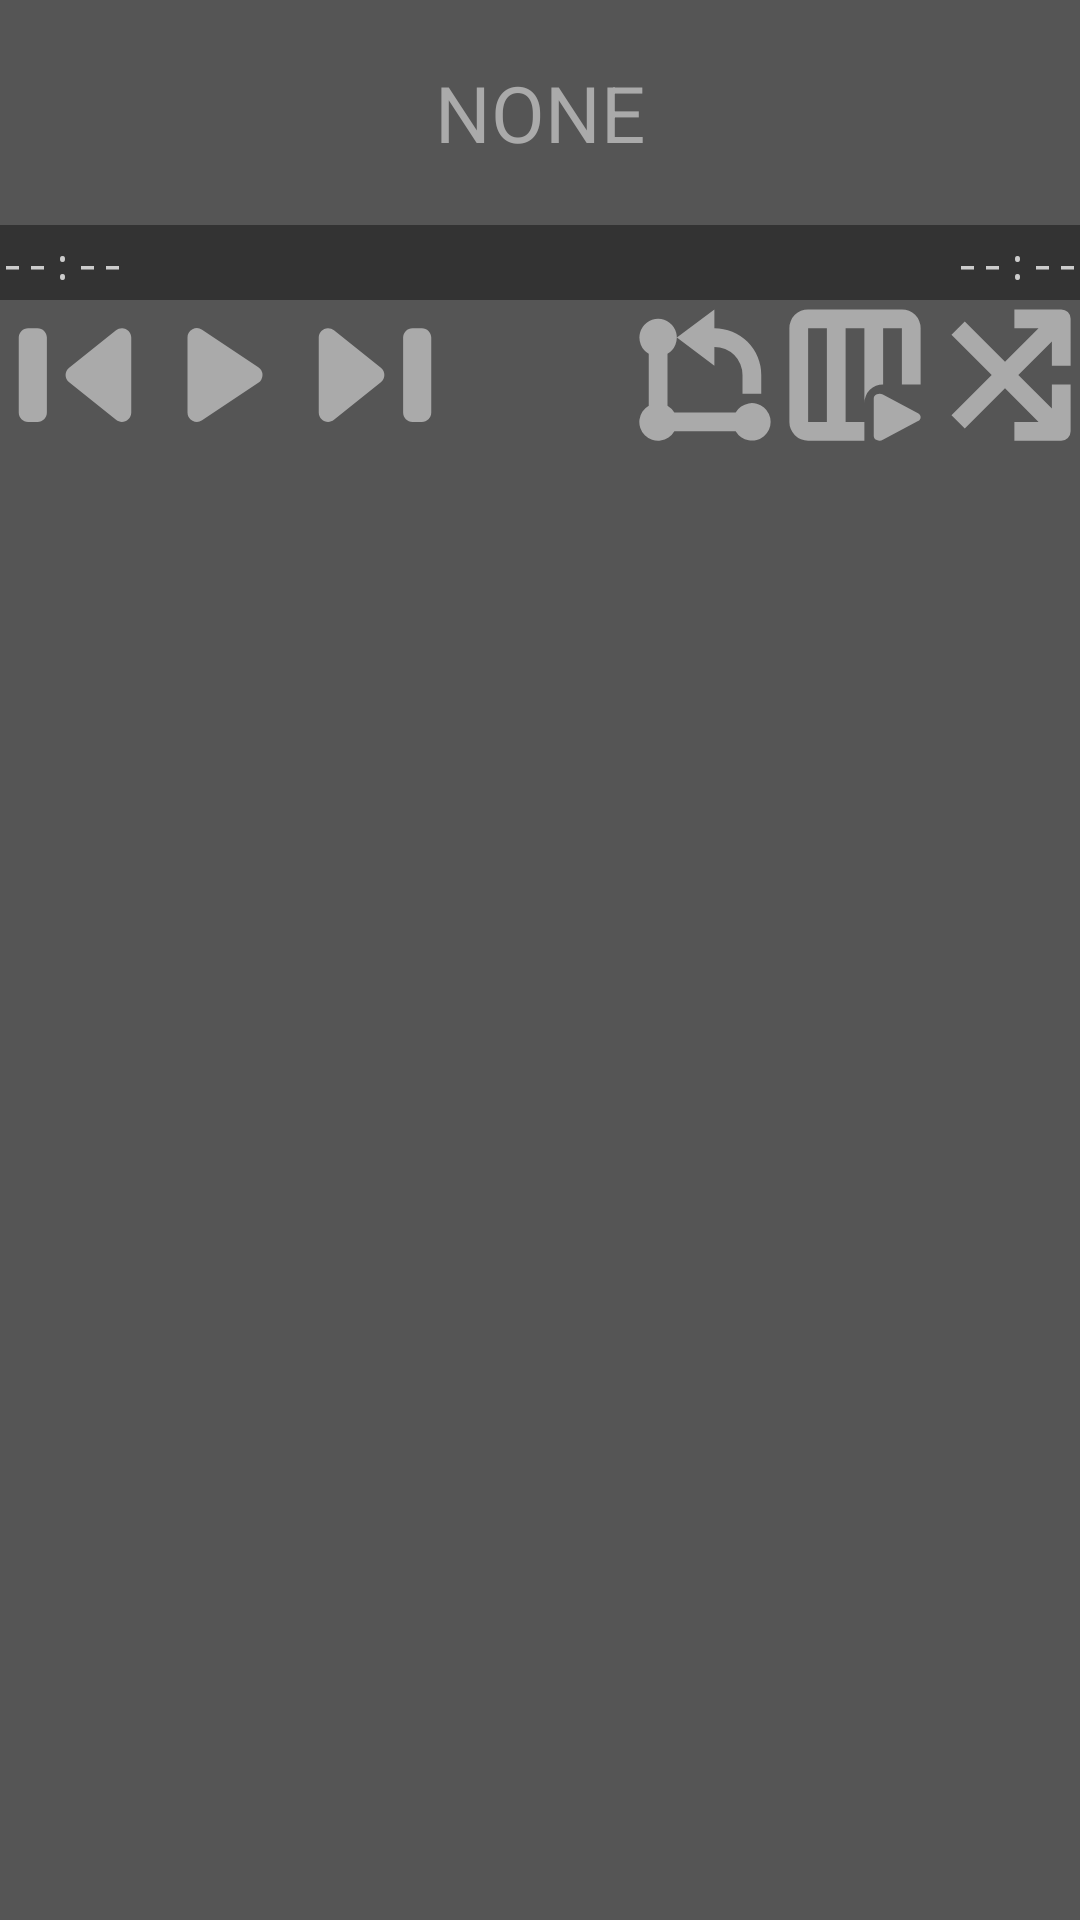

Named icons in this screenshot (1080*1920) and their centers, point (x, y):
mxs queue: point (855, 375)
mxs repeat: point (705, 375)
next song: point (375, 375)
play button: point (225, 375)
previous song: point (75, 375)
toggle shuffle: point (1011, 375)
